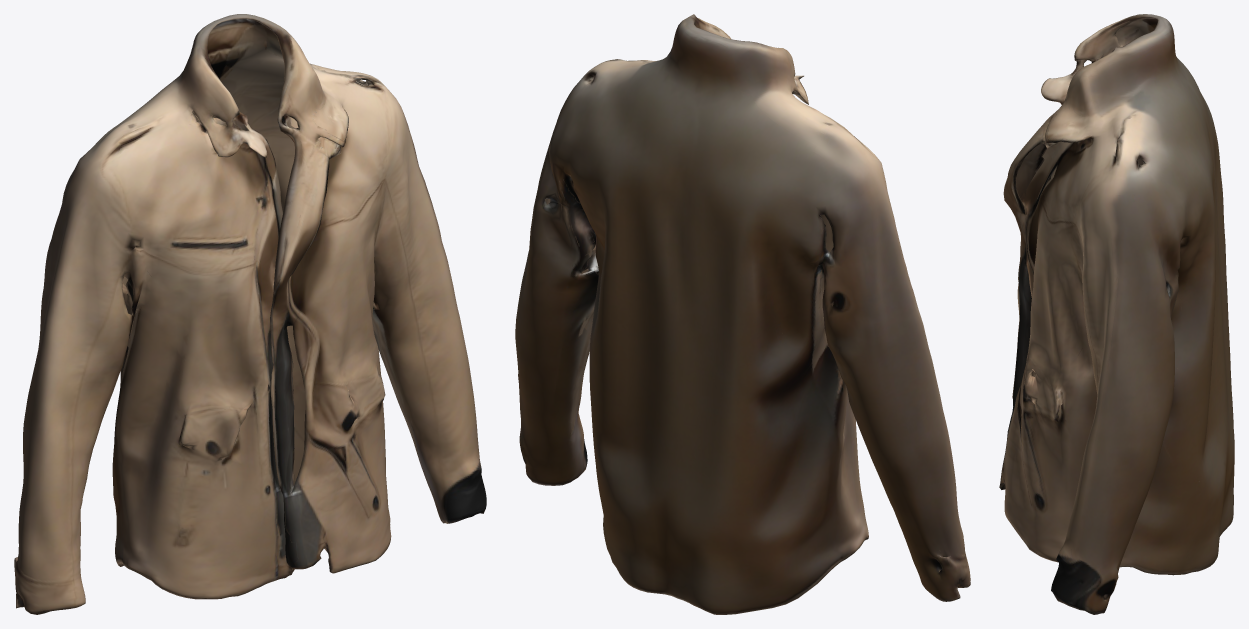
File: jacket.glb
3 renders of one model, left to right at view 1: azimuth 30°, elevation 25°; view 2: azimuth 150°, elevation 25°; view 3: azimuth 270°, elevation 25°, orthographic. The views are drawn at different scales.
Bounding box in the file's own units: 1.72 × 1.99 × 0.8153.
1 material, 1 textured.
